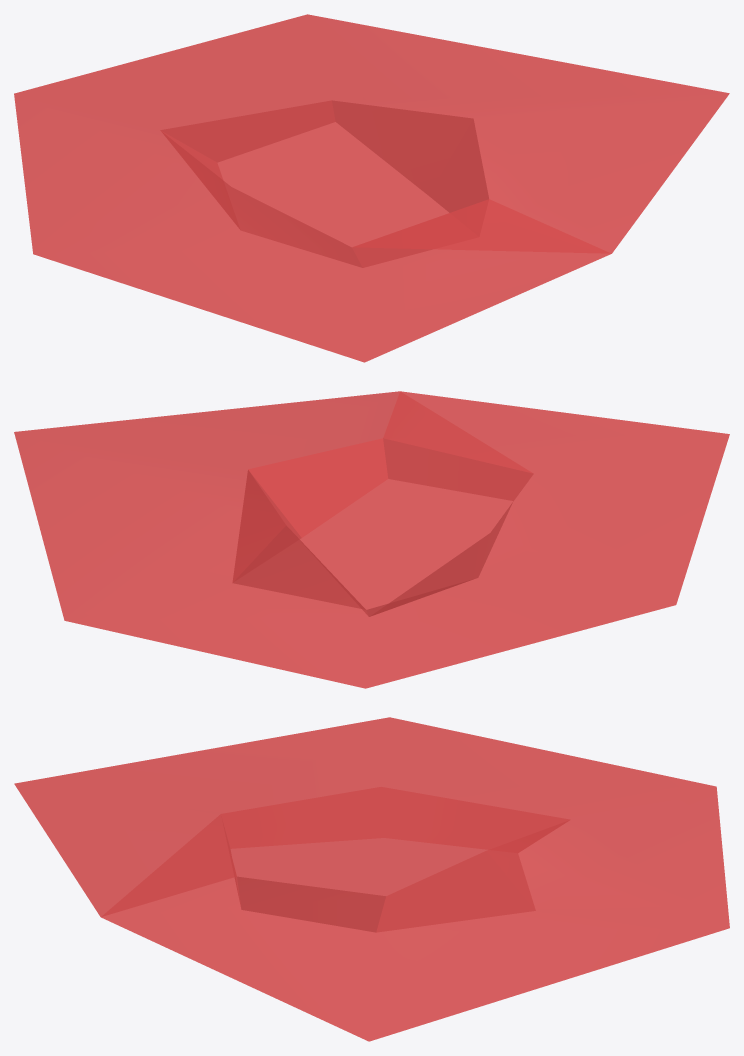
The model's file is Ketslop.fbx.
3 views of the same model, one above another, from view 1: azimuth 30°, elevation 25°; view 2: azimuth 150°, elevation 25°; view 3: azimuth 270°, elevation 25° (orthographic). The views are drawn at different scales.
Parts seen in each view (by area): view 1: Ketchup; view 2: Ketchup; view 3: Ketchup.
Boxes of the visible parts, bbox=[...] form: Ketchup: bbox=[14, 14, 729, 362]; Ketchup: bbox=[14, 391, 729, 688]; Ketchup: bbox=[14, 717, 729, 1041].
Bounding box in the file's own units: 21.68 × 1.94 × 20.14.
